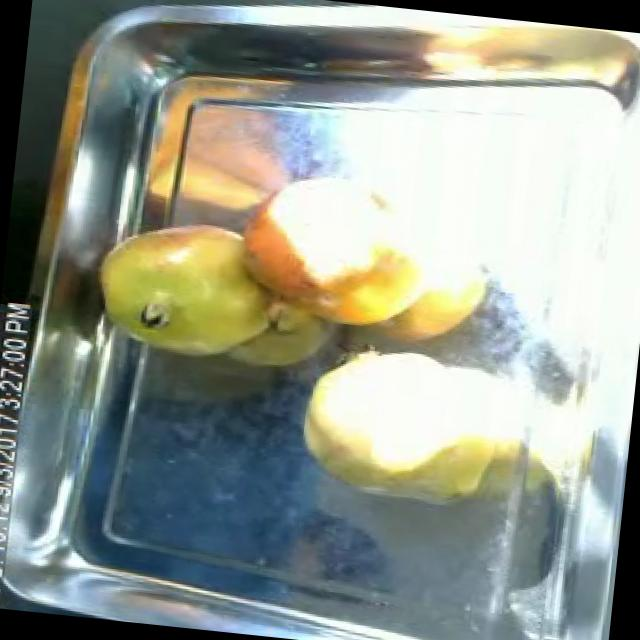fruit: (214, 152, 446, 347), (80, 202, 300, 376)
